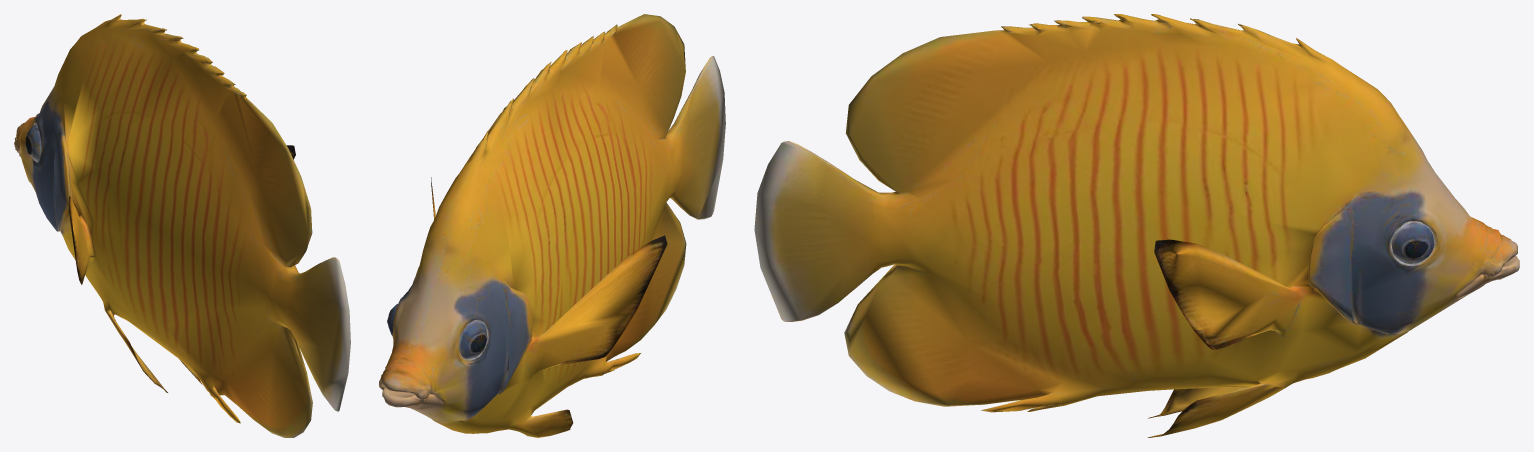
The model's file is koraalvlinder.glb.
3 renders of one model, left to right at view 1: azimuth 30°, elevation 25°; view 2: azimuth 150°, elevation 25°; view 3: azimuth 270°, elevation 25°, orthographic. The views are drawn at different scales.
Visible parts, largest first — view 1: tripo_node_d244f3be-5a0d-470b-84b1-80a77c8f645b; view 2: tripo_node_d244f3be-5a0d-470b-84b1-80a77c8f645b; view 3: tripo_node_d244f3be-5a0d-470b-84b1-80a77c8f645b.
Boxes of the visible parts, box(x1,y1,x2,y2) form: tripo_node_d244f3be-5a0d-470b-84b1-80a77c8f645b: box(14, 14, 350, 437); tripo_node_d244f3be-5a0d-470b-84b1-80a77c8f645b: box(379, 14, 725, 437); tripo_node_d244f3be-5a0d-470b-84b1-80a77c8f645b: box(754, 14, 1519, 437).
Bounding box in the file's own units: 0.1357 × 0.2 × 0.3351.
Materials: 1 (1 with a texture image).
